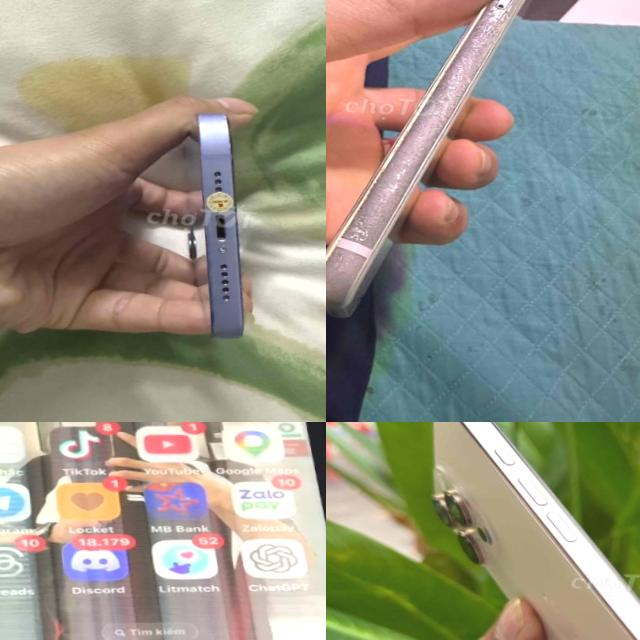gen_11: (0, 422, 326, 640)
gen_12_13: (176, 108, 276, 352)
gen_16: (432, 422, 640, 640)
gen_7_8: (326, 0, 596, 311)
scratch: (410, 65, 476, 132), (369, 136, 428, 203), (454, 8, 510, 66), (340, 203, 390, 241), (326, 249, 365, 292)
screen_defect: (0, 422, 326, 553), (0, 533, 326, 640)
